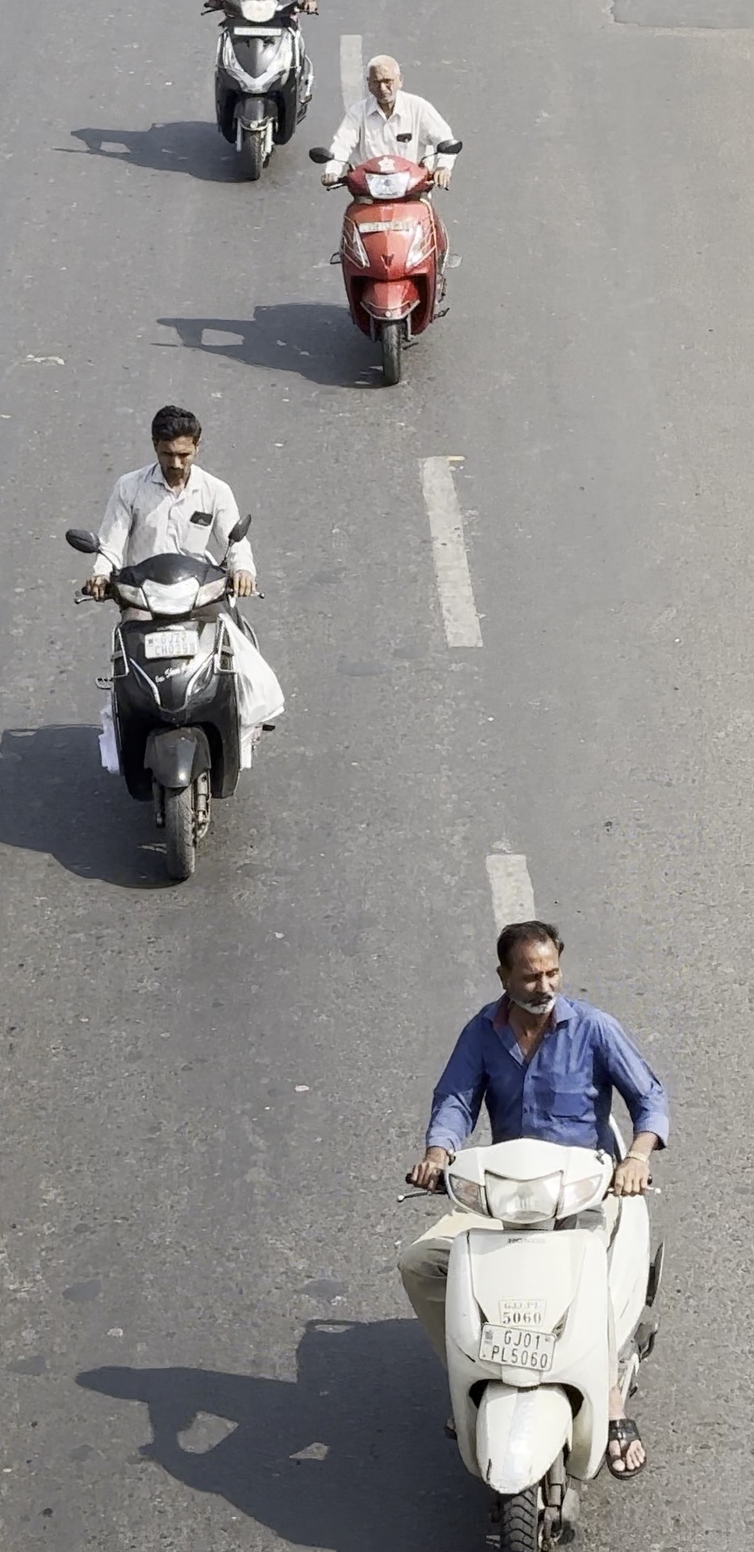BikeWithRider: (381, 905, 682, 1552), (49, 391, 308, 912), (299, 45, 470, 402)
NoHelmet: (483, 918, 580, 1021), (140, 398, 214, 491), (354, 53, 417, 112)
